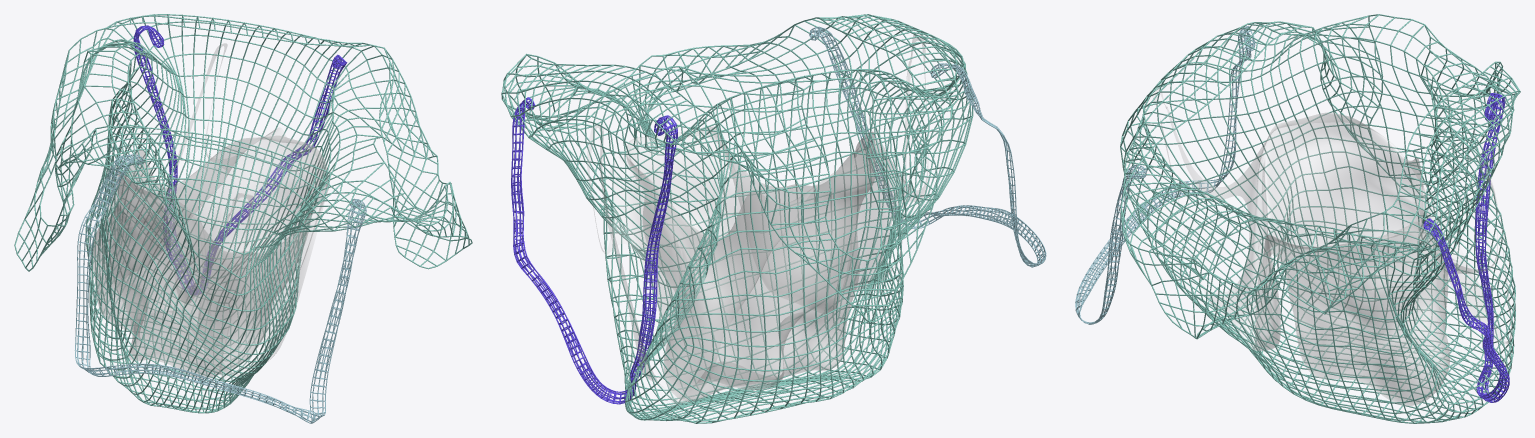
Rendered from WebBucket.glb.
The picture shows the model from 3 angles, left to right: view 1: azimuth 30°, elevation 25°; view 2: azimuth 150°, elevation 25°; view 3: azimuth 270°, elevation 25°; orthographic projection. The views are drawn at different scales.
Parts seen in each view (by area): view 1: Sphere, Sphere_2, Sweep_2, Sweep; view 2: Sphere, Sphere_2, Sweep, Sweep_2; view 3: Sphere, Sphere_2, Sweep, Sweep_2.
Part boxes in pixels (box(x1,y1,x2,y2)): Sphere: box(14, 14, 472, 413); Sphere_2: box(91, 43, 328, 380); Sweep_2: box(75, 154, 366, 423); Sweep: box(133, 25, 347, 295); Sphere: box(501, 14, 973, 423); Sphere_2: box(587, 34, 927, 403); Sweep: box(511, 97, 677, 404); Sweep_2: box(809, 26, 1046, 267); Sphere: box(1120, 14, 1520, 423); Sphere_2: box(1153, 87, 1511, 405); Sweep: box(1423, 93, 1509, 402); Sweep_2: box(1075, 26, 1255, 324).
Size of the model in its own units: 2.44 by 1.9 by 2.26.
